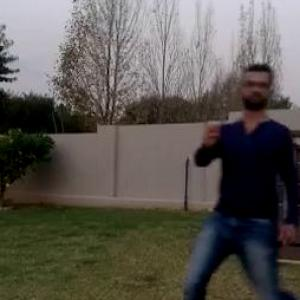takeoff-hand: (198, 106, 227, 148)
